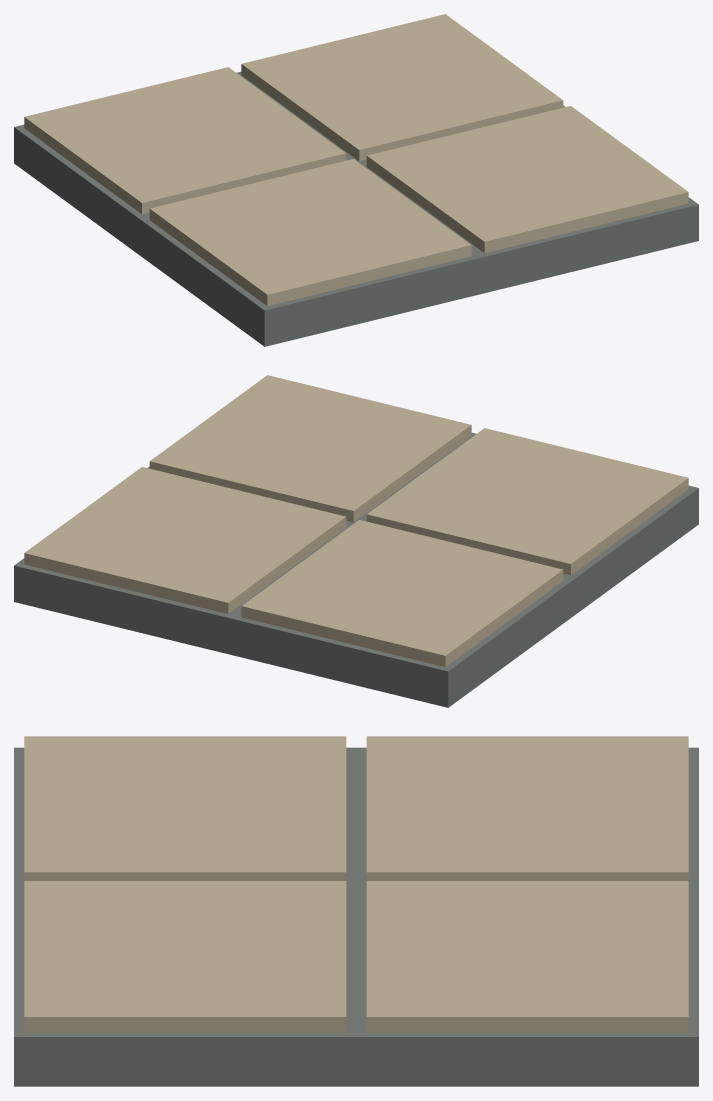
The model's file is architecture-city-floor.lod0.glb.
3 views of the same model, one above another, from view 1: azimuth 30°, elevation 25°; view 2: azimuth 150°, elevation 25°; view 3: azimuth 270°, elevation 25° (orthographic). The views are drawn at different scales.
Visible parts, largest first — view 1: architecture-city-floor__body; view 2: architecture-city-floor__body; view 3: architecture-city-floor__body.
Part boxes in pixels (x1,y1,x2,y2): architecture-city-floor__body: (14, 14, 698, 346); architecture-city-floor__body: (14, 375, 698, 707); architecture-city-floor__body: (14, 736, 698, 1086).
Size of the model in its own units: 2 by 0.21 by 2.
